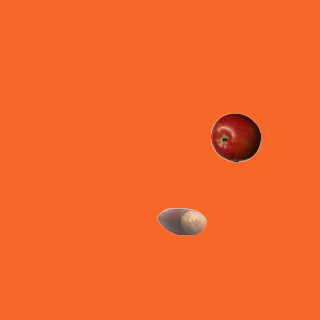Apple Braeburn: (210, 112, 260, 162)
Hazelnut: (156, 196, 206, 246)
